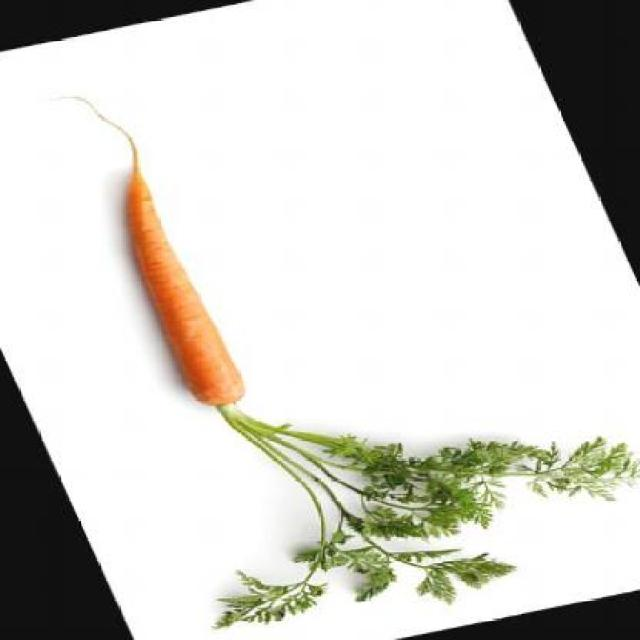carrot: (84, 163, 248, 414)
